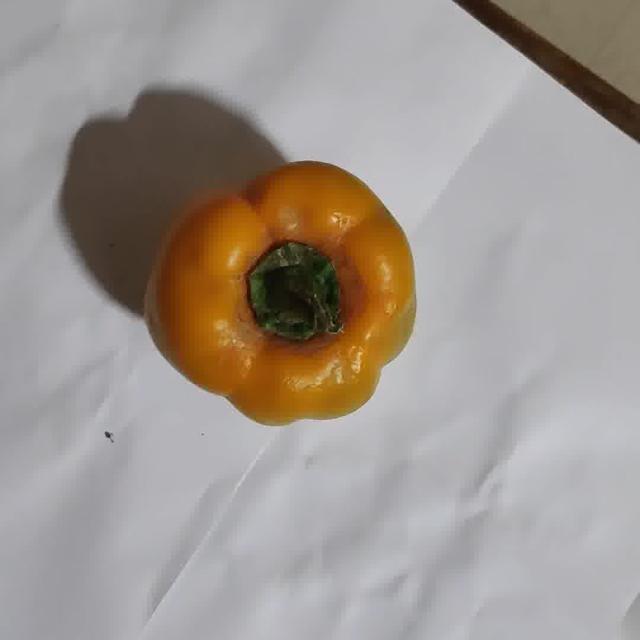Bell Pepper: (145, 162, 415, 425)
